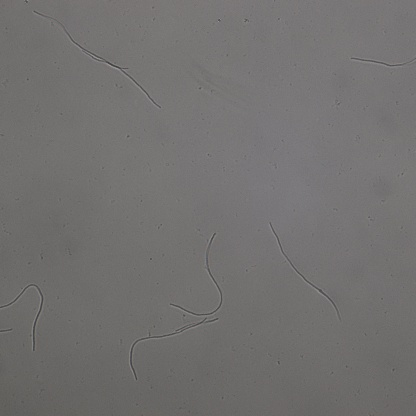Sensitive: (271, 223, 340, 316), (129, 318, 220, 381), (34, 10, 128, 69), (169, 232, 223, 316), (85, 52, 160, 107), (1, 282, 44, 351), (351, 53, 416, 67)
